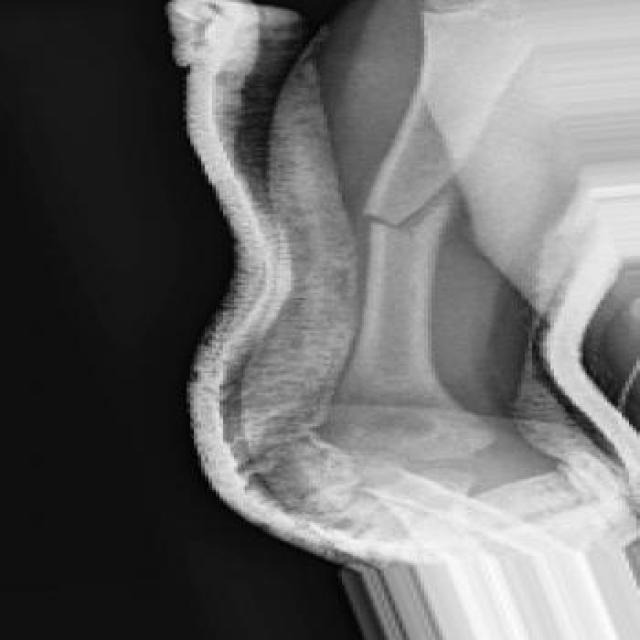Fracture: (359, 163, 478, 252)
